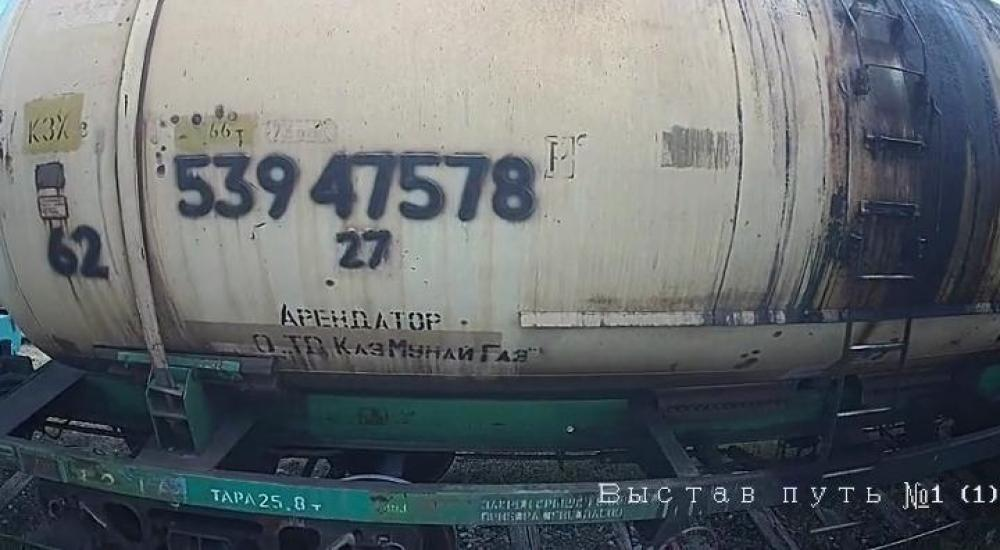Wagon-number: (169, 144, 542, 226)
